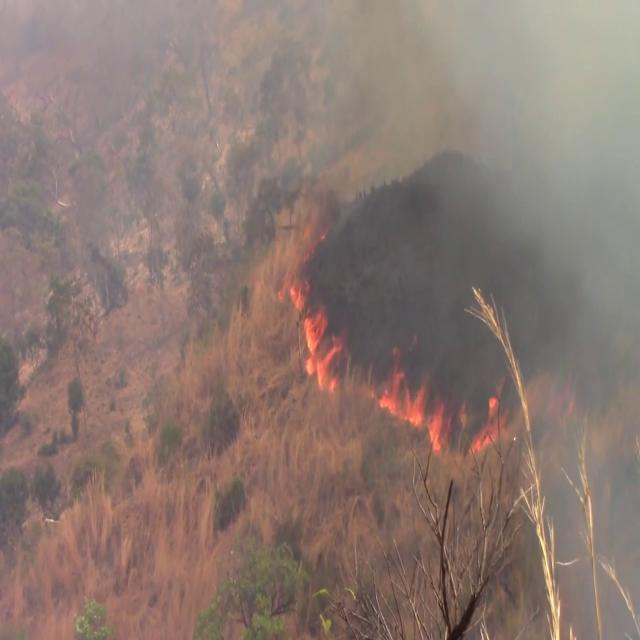Fire: (373, 354, 448, 446), (298, 294, 347, 392)
Smoke: (365, 2, 640, 330)
